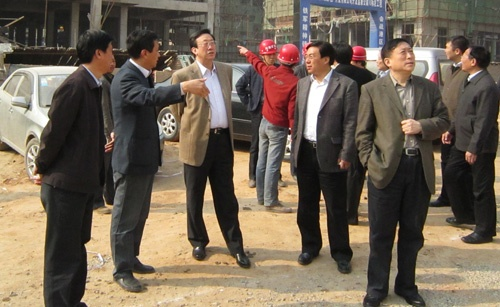none: (73, 27, 115, 75), (125, 26, 160, 69), (380, 34, 416, 75), (188, 25, 218, 60), (304, 40, 333, 76), (458, 45, 491, 73), (444, 31, 469, 61), (331, 41, 353, 67)
red: (278, 41, 300, 70), (257, 37, 278, 64), (349, 44, 367, 68)
